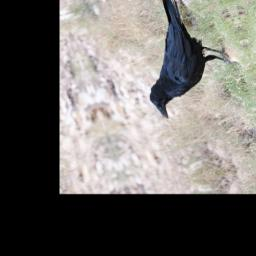Crow: (115, 0, 250, 122)
